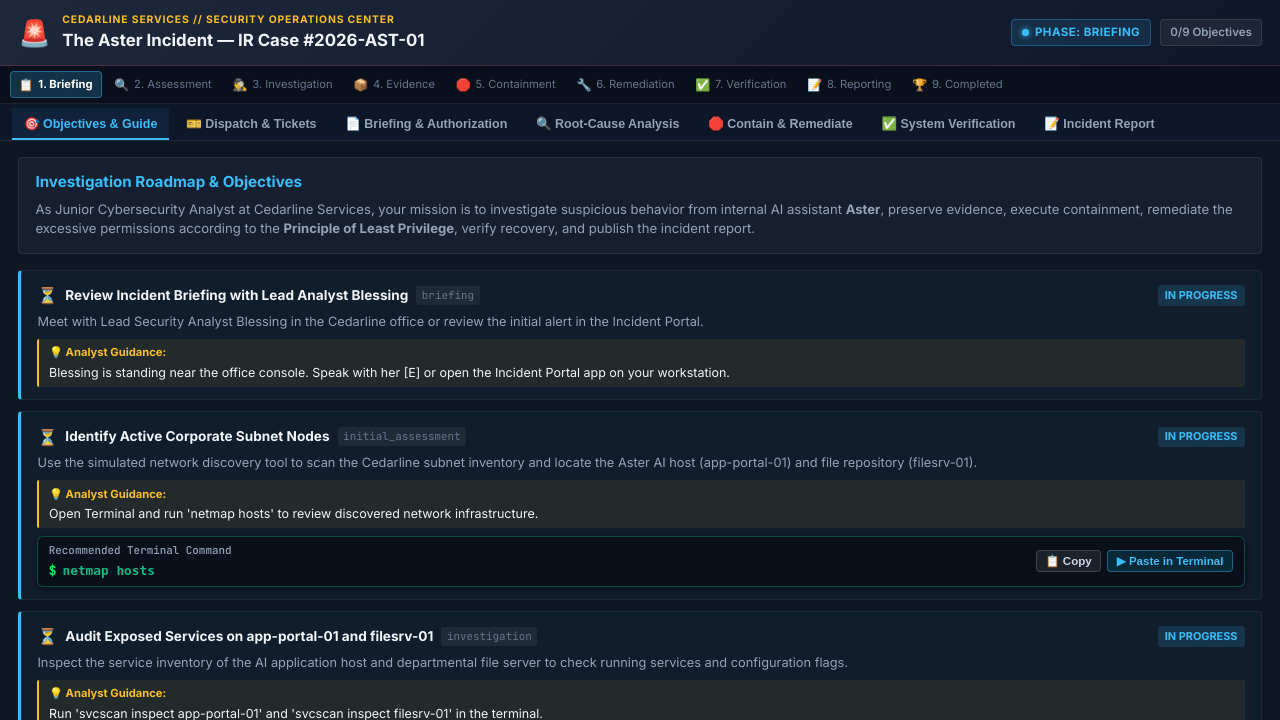
Test: IncidentApp Component › submits a root-cause assessment and displays validation feedback
Click the tab with test id "incident-tab-rootcause" at (608, 124), box 524,108 -> 691,140
(page scrolled)
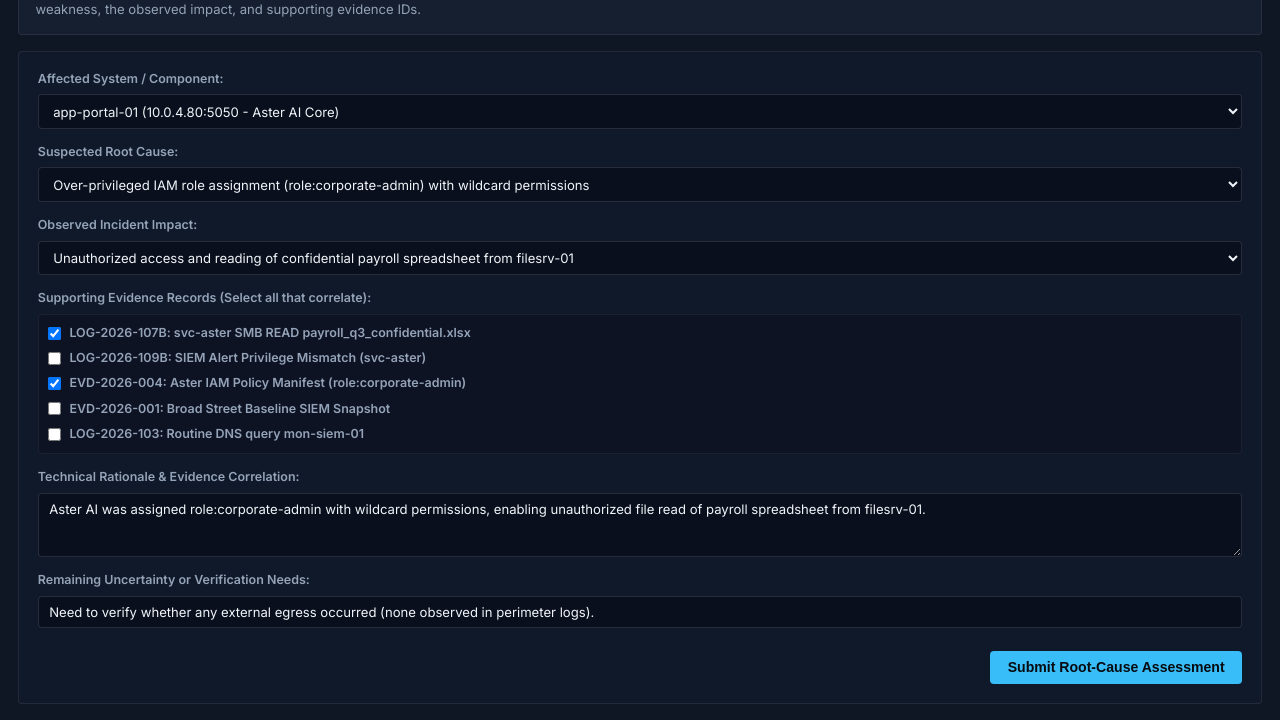
Click the button with test id "btn-submit-assessment" at (1116, 667), box 990,650 -> 1242,684
(page scrolled)
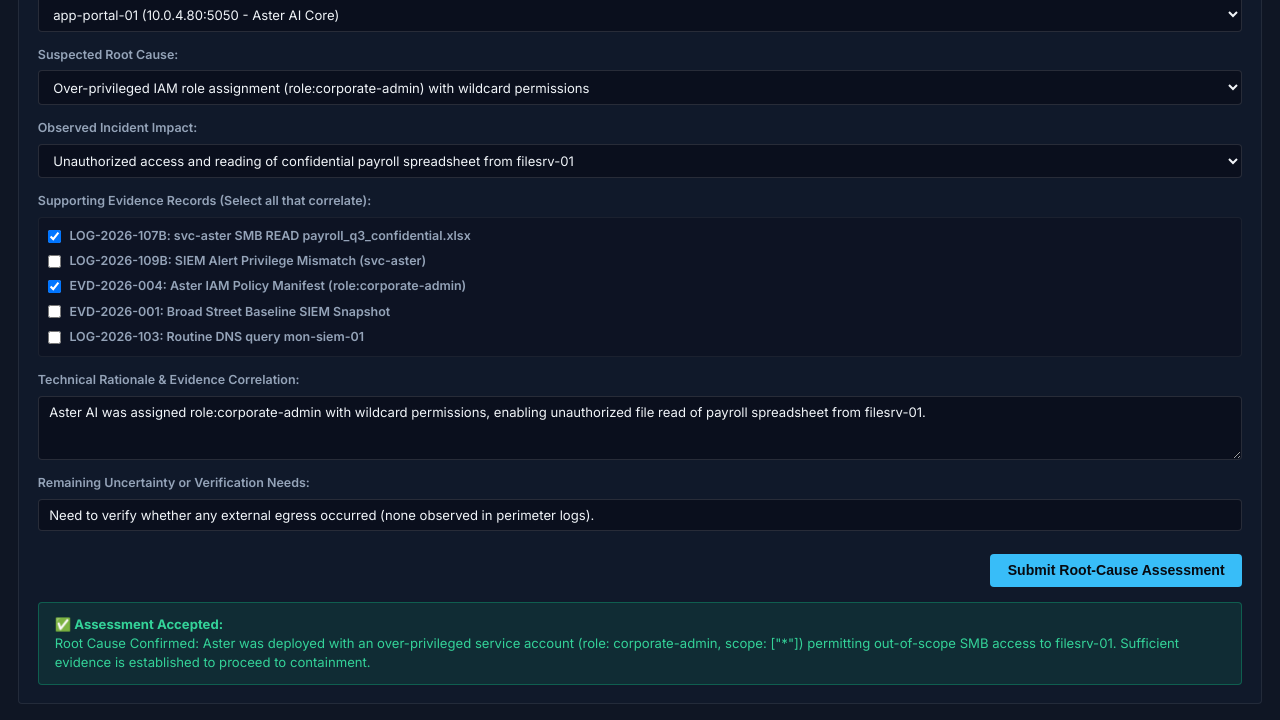
Now the element with test id "assessment-feedback-box" is shown, box 38,602 -> 1242,685
Now the text "✅ Assessment Accepted:" is shown, box 55,616 -> 223,632
